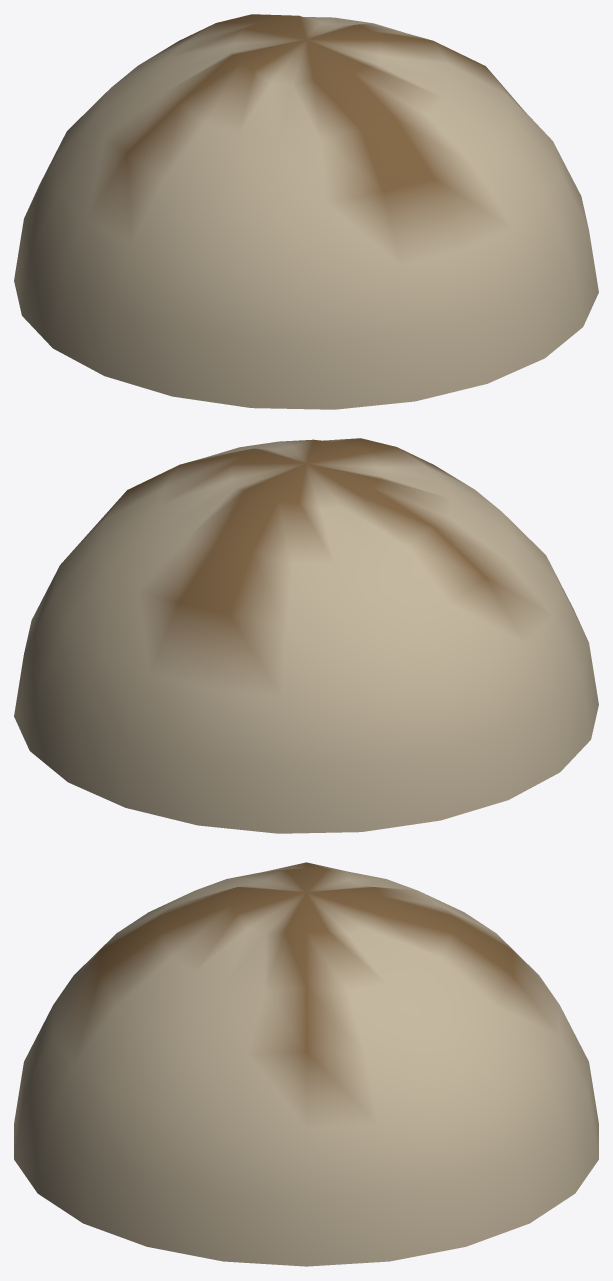
File: dimsum-bao-s0.glb
3 renders of one model, top to bottom at view 1: azimuth 30°, elevation 25°; view 2: azimuth 150°, elevation 25°; view 3: azimuth 270°, elevation 25°, orthographic.
Visible parts, largest first — view 1: food__food; view 2: food__food; view 3: food__food.
Boxes of the visible parts, x1=… form: food__food: x1=14, y1=14, x2=598, y2=409; food__food: x1=14, y1=438, x2=598, y2=833; food__food: x1=14, y1=862, x2=598, y2=1266.
Size of the model in its own units: 0.064 by 0.0298 by 0.0633.
